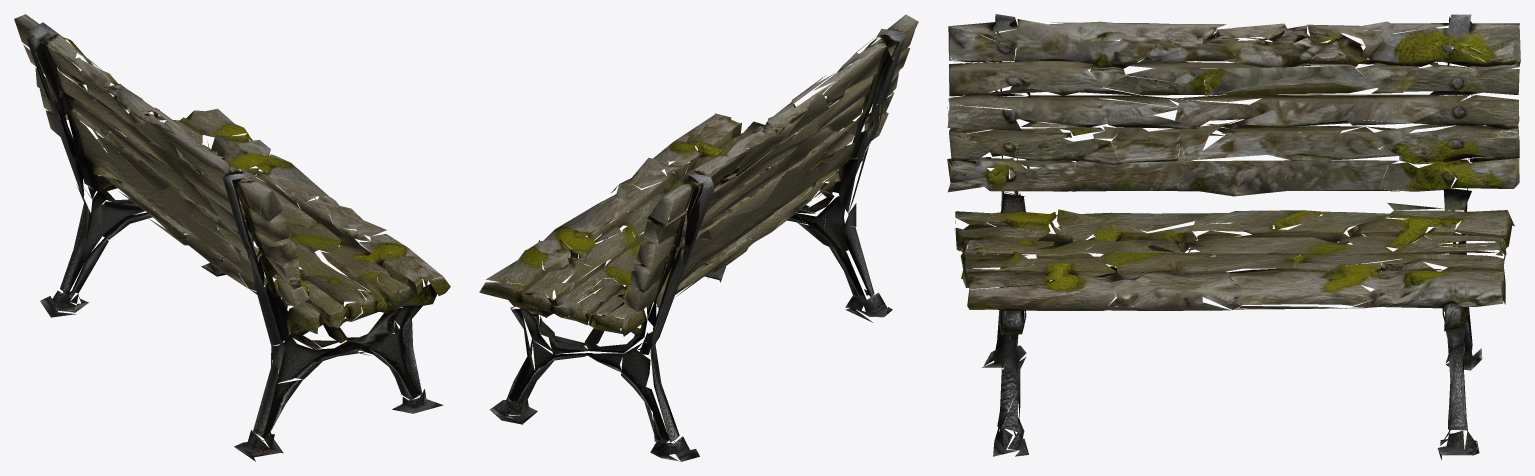
Rendered from bench.glb.
3 renders of one model, left to right at view 1: azimuth 30°, elevation 25°; view 2: azimuth 150°, elevation 25°; view 3: azimuth 270°, elevation 25°, orthographic. The views are drawn at different scales.
Parts seen in each view (by area): view 1: tripo_node_71ee0893-21eb-4156-ad51-ec8649237154; view 2: tripo_node_71ee0893-21eb-4156-ad51-ec8649237154; view 3: tripo_node_71ee0893-21eb-4156-ad51-ec8649237154.
Boxes of the visible parts, x1,y1,x2,y2 form: tripo_node_71ee0893-21eb-4156-ad51-ec8649237154: (14,14,450,461); tripo_node_71ee0893-21eb-4156-ad51-ec8649237154: (479,14,918,461); tripo_node_71ee0893-21eb-4156-ad51-ec8649237154: (947,14,1520,460).
Bounding box in the file's own units: 0.6623 × 0.8538 × 1.32.
1 material, 1 textured.
